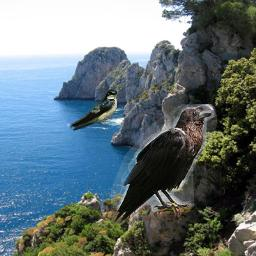Crow: (111, 104, 217, 224)
Swallow: (70, 89, 118, 131)
